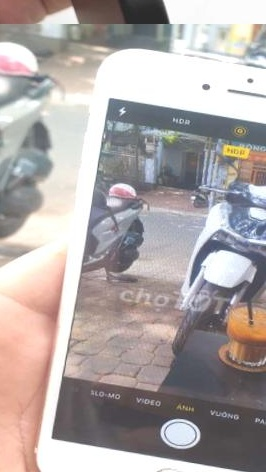scratch: (68, 63, 130, 135)
